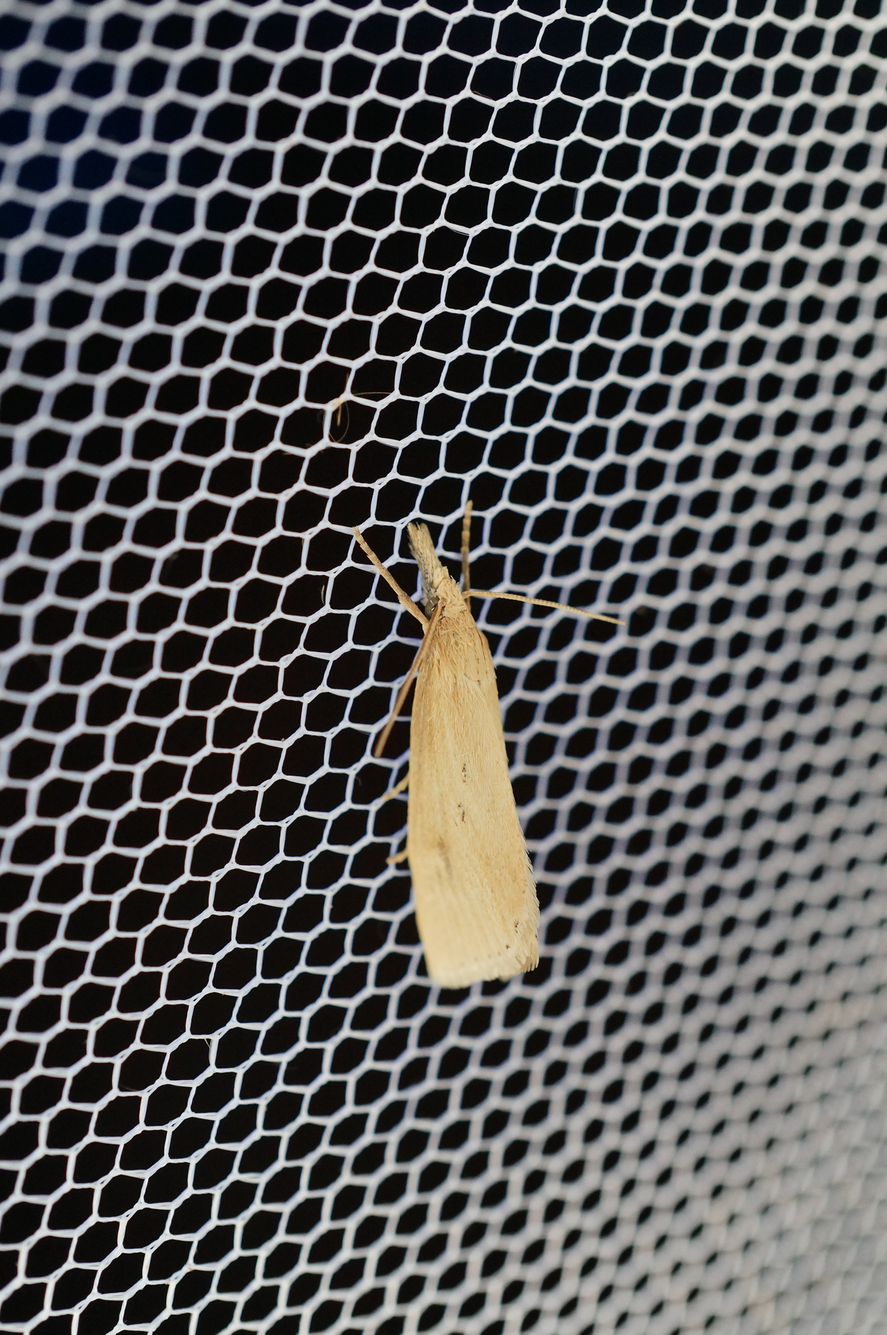Crambidae: (360, 488, 623, 996)
